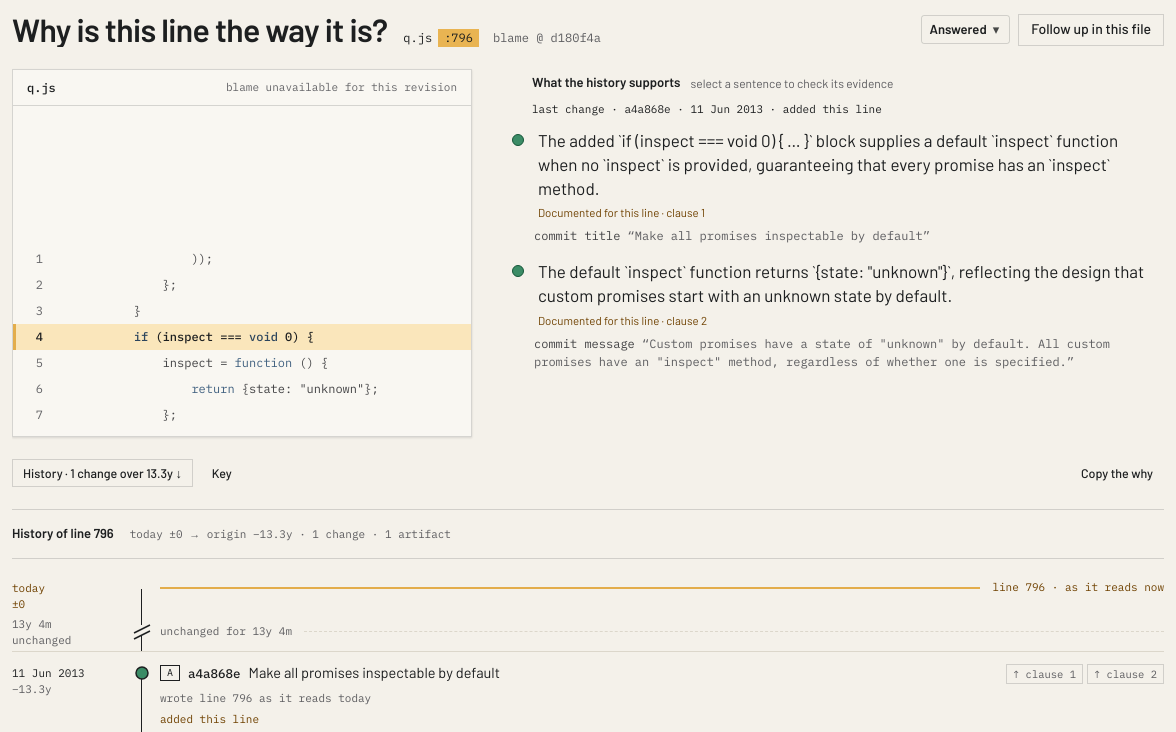
Test: validating the reading before it reaches the case screen › q-796 and ws-revert-story: a reason documented for the line stays documented, and its source carries no note
Step 1. Click the button named "Documented for this line" → (834, 174), box [504,122,1164,227]
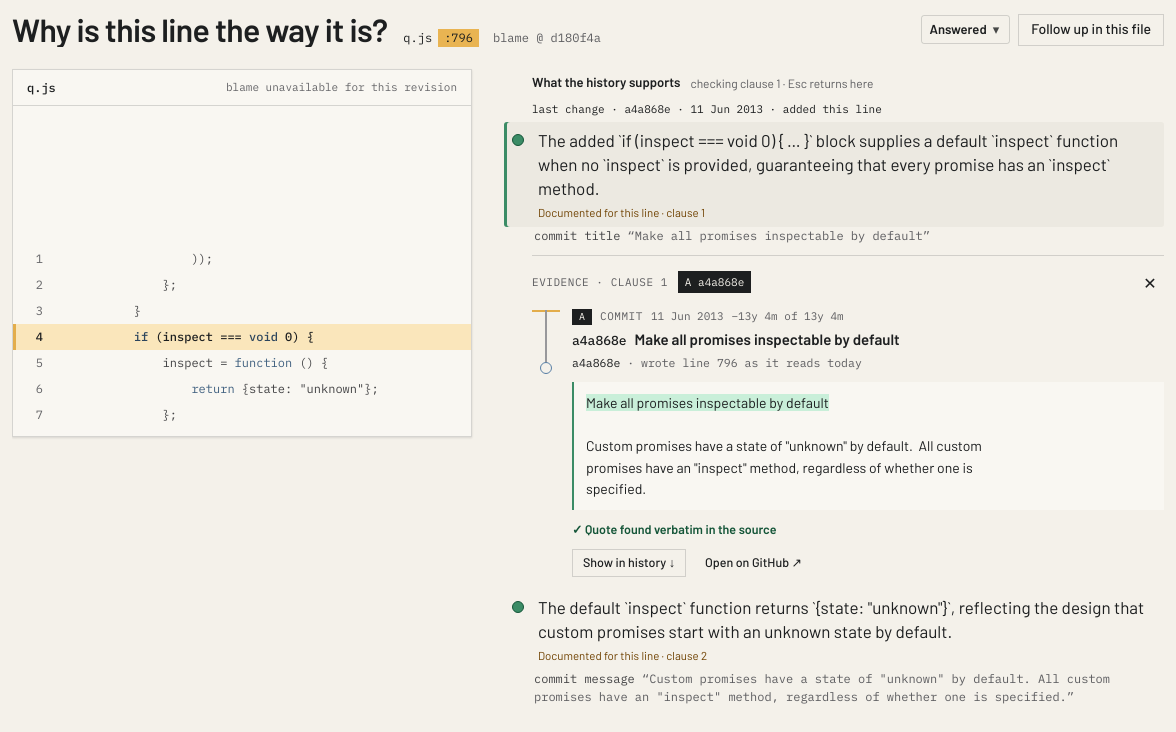
Expected: the element "EVIDENCE · CLAUSE 1" is shown, [532,255,1164,577]
